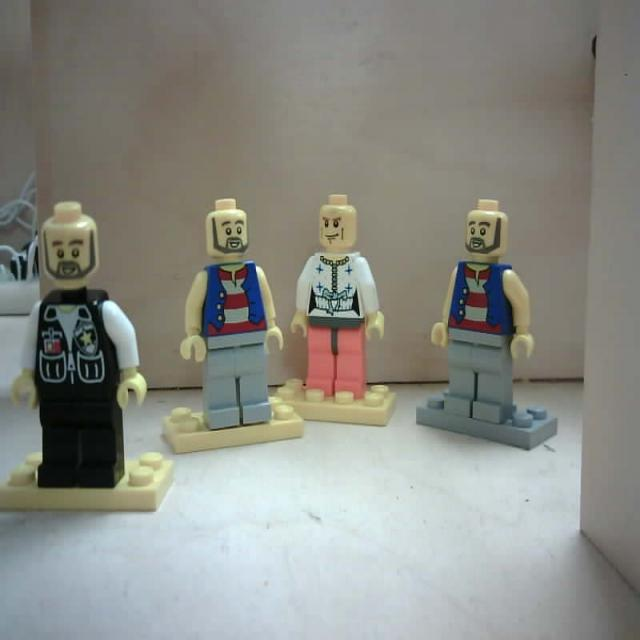Lego-People: (9, 196, 147, 496), (181, 197, 285, 434), (430, 195, 535, 429), (292, 191, 382, 407)
